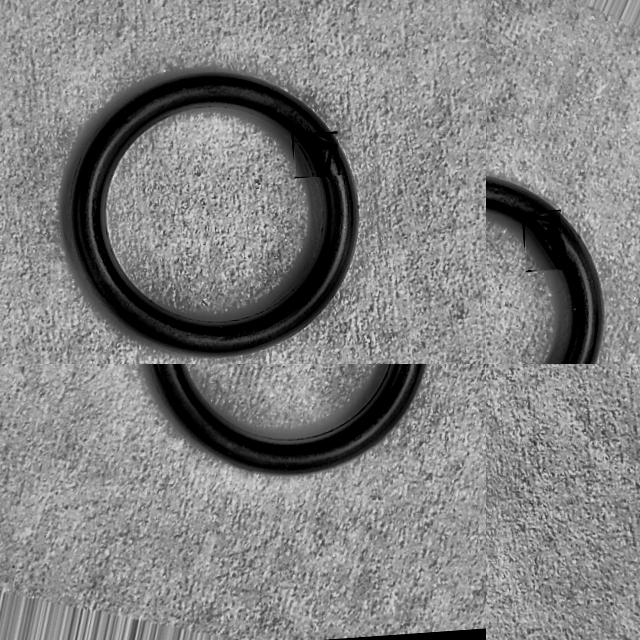切割缺陷: (524, 211, 563, 268), (294, 133, 337, 176)
